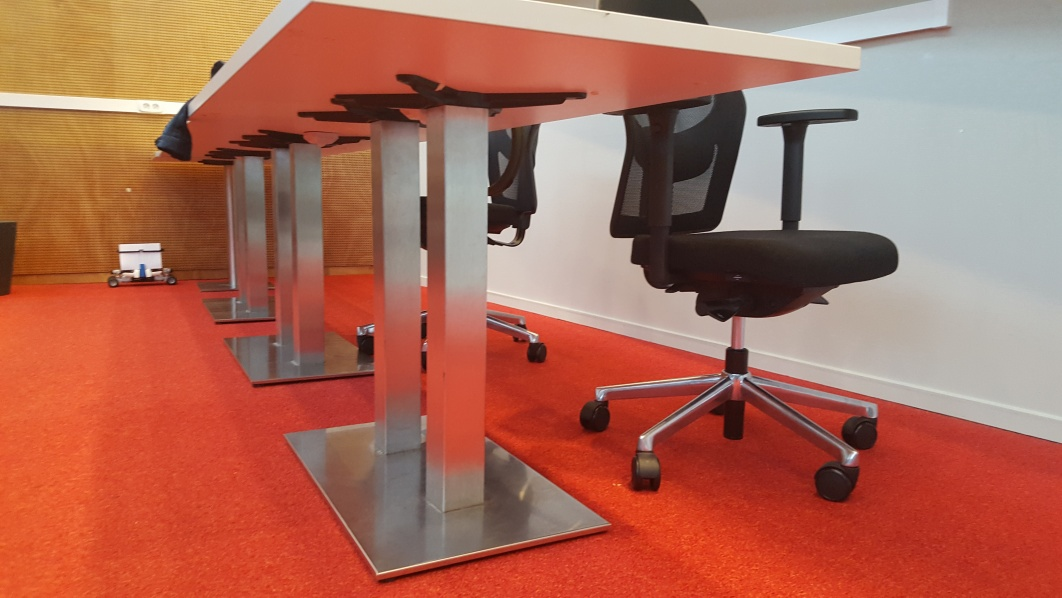car: (103, 239, 178, 288)
